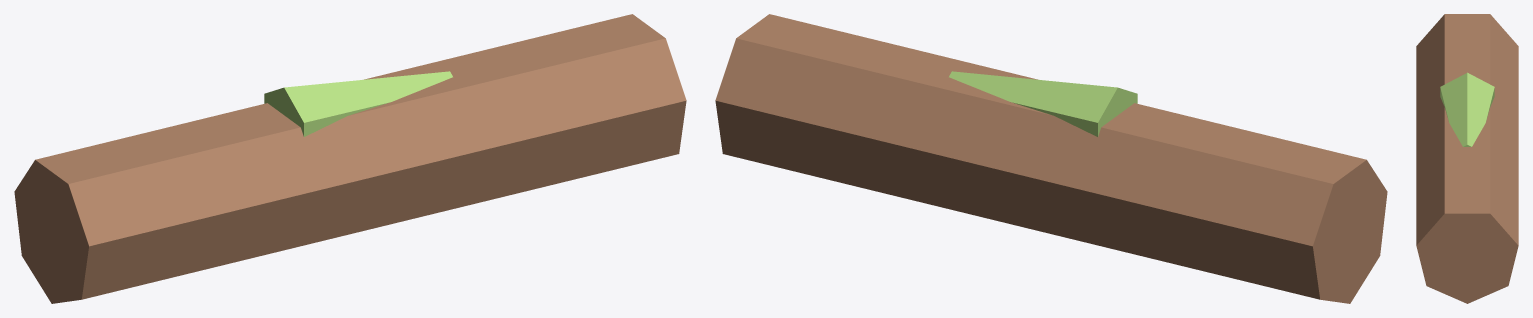
Rendered from log.glb.
3 views of the same model, side by side, from view 1: azimuth 30°, elevation 25°; view 2: azimuth 150°, elevation 25°; view 3: azimuth 270°, elevation 25° (orthographic). The views are drawn at different scales.
Parts seen in each view (by area): view 1: log-bark, log-moss; view 2: log-bark, log-moss; view 3: log-bark, log-moss.
Boxes of the visible parts, box(x1,y1,x2,y2) form: log-bark: box(14, 14, 686, 303); log-moss: box(264, 71, 452, 136); log-bark: box(715, 14, 1387, 303); log-moss: box(949, 71, 1137, 136); log-bark: box(1416, 14, 1518, 303); log-moss: box(1440, 72, 1494, 146).
Size of the model in its own units: 1.8 by 0.46 by 0.39.
